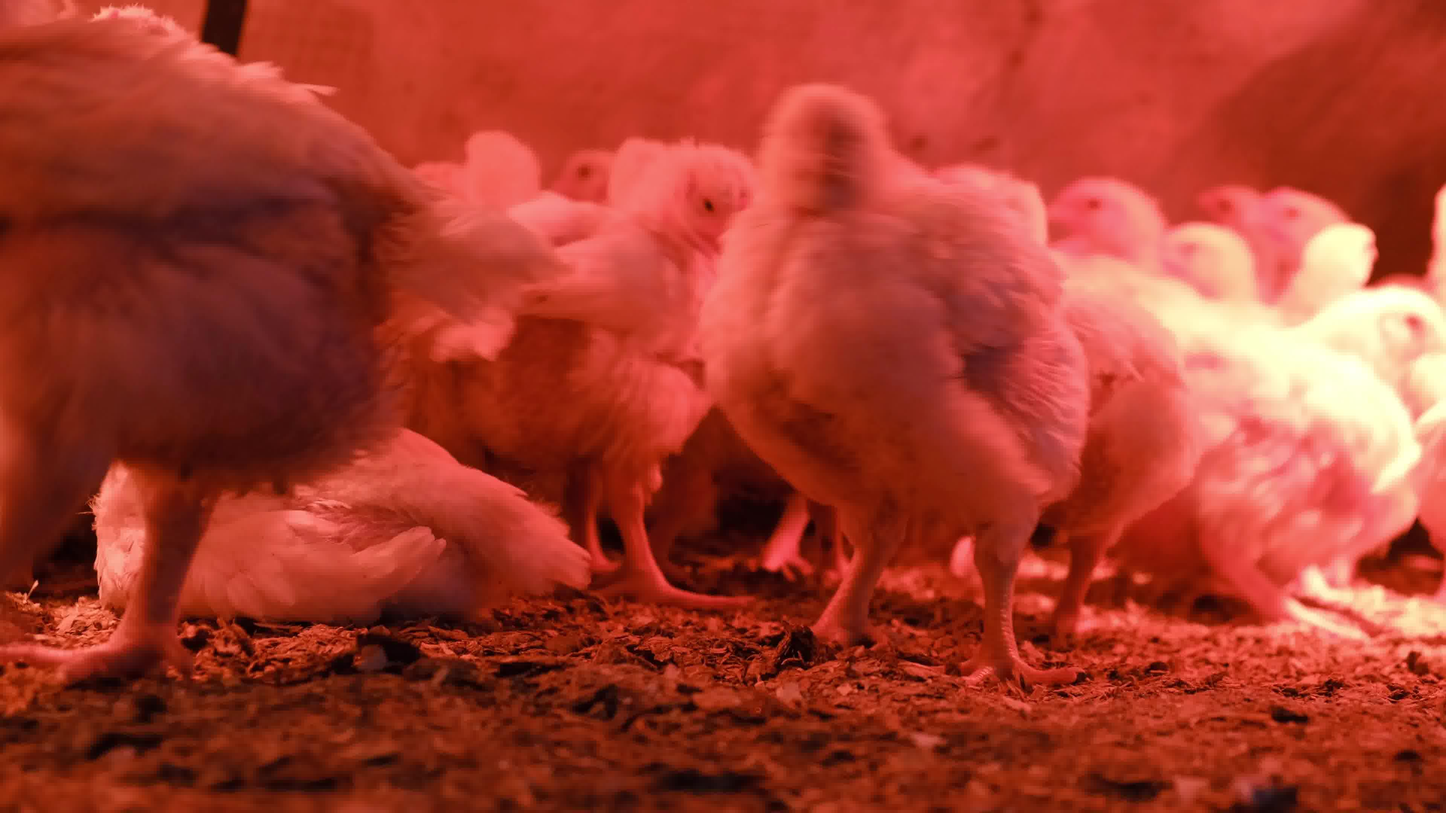AbNormal: (92, 369, 636, 636)
Normal: (0, 0, 433, 696), (723, 77, 1143, 717), (506, 120, 789, 634), (1149, 292, 1446, 659), (1135, 130, 1376, 388), (414, 130, 693, 327), (1278, 216, 1446, 382), (1036, 167, 1177, 277)
